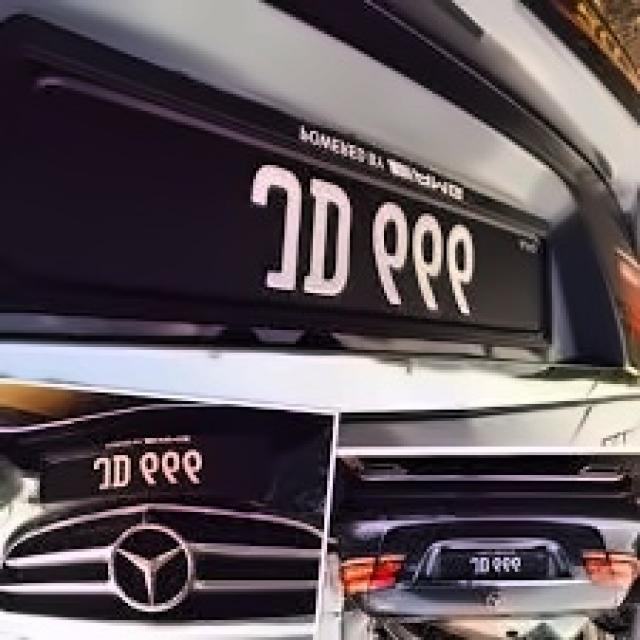car-plate: (4, 12, 555, 351), (42, 406, 274, 504), (415, 538, 575, 586)
